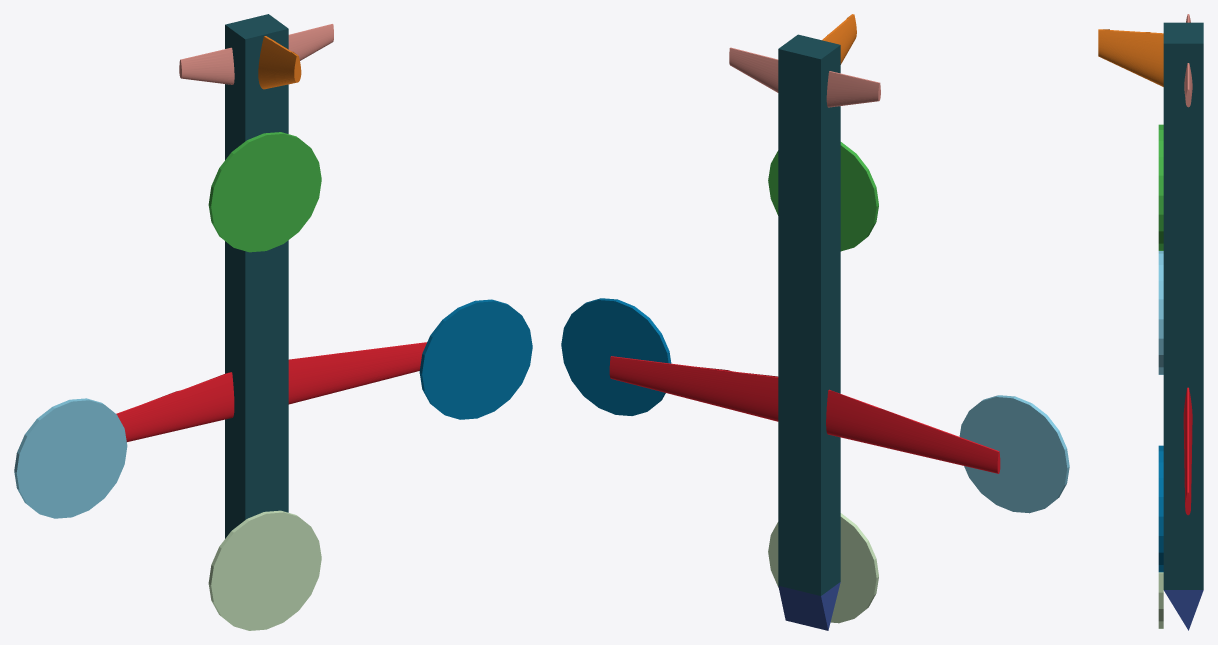
Rendered from tinker.obj.
3 views of the same model, side by side, from view 1: azimuth 30°, elevation 25°; view 2: azimuth 150°, elevation 25°; view 3: azimuth 270°, elevation 25° (orthographic).
Parts seen in each view (by area): view 1: group_0_1855578, group_0_8768998, group_0_4634441, group_0_30377, group_0_13165757, group_0_15277357, group_0_15308428, group_0_16089887; view 2: group_0_1855578, group_0_15277357, group_0_8768998, group_0_30377, group_0_13165757, group_0_4634441, group_0_15308428, group_0_3888547, group_0_16089887; view 3: group_0_1855578, group_0_16089887, group_0_15277357, group_0_3888547, group_0_30377, group_0_4634441, group_0_8768998, group_0_13165757, group_0_15308428.
Part boxes in pixels (bbox=[...]): group_0_1855578: bbox=[225, 14, 288, 538]; group_0_8768998: bbox=[14, 398, 127, 518]; group_0_4634441: bbox=[208, 132, 321, 252]; group_0_30377: bbox=[419, 299, 532, 419]; group_0_13165757: bbox=[208, 510, 321, 630]; group_0_15277357: bbox=[116, 342, 426, 441]; group_0_15308428: bbox=[179, 24, 333, 84]; group_0_16089887: bbox=[258, 36, 301, 89]; group_0_1855578: bbox=[778, 34, 840, 595]; group_0_15277357: bbox=[609, 356, 1000, 473]; group_0_8768998: bbox=[959, 395, 1069, 513]; group_0_30377: bbox=[561, 298, 671, 415]; group_0_13165757: bbox=[768, 513, 878, 623]; group_0_4634441: bbox=[768, 142, 878, 251]; group_0_15308428: bbox=[729, 47, 880, 107]; group_0_3888547: bbox=[778, 582, 840, 630]; group_0_16089887: bbox=[822, 14, 856, 64]; group_0_1855578: bbox=[1163, 22, 1203, 589]; group_0_16089887: bbox=[1098, 29, 1163, 86]; group_0_15277357: bbox=[1183, 387, 1192, 515]; group_0_3888547: bbox=[1164, 590, 1203, 630]; group_0_30377: bbox=[1158, 445, 1163, 572]; group_0_4634441: bbox=[1158, 124, 1163, 250]; group_0_8768998: bbox=[1158, 251, 1163, 374]; group_0_13165757: bbox=[1158, 572, 1163, 628]; group_0_15308428: bbox=[1184, 14, 1192, 107].
Size of the model in its own units: 118 by 131 by 21.
